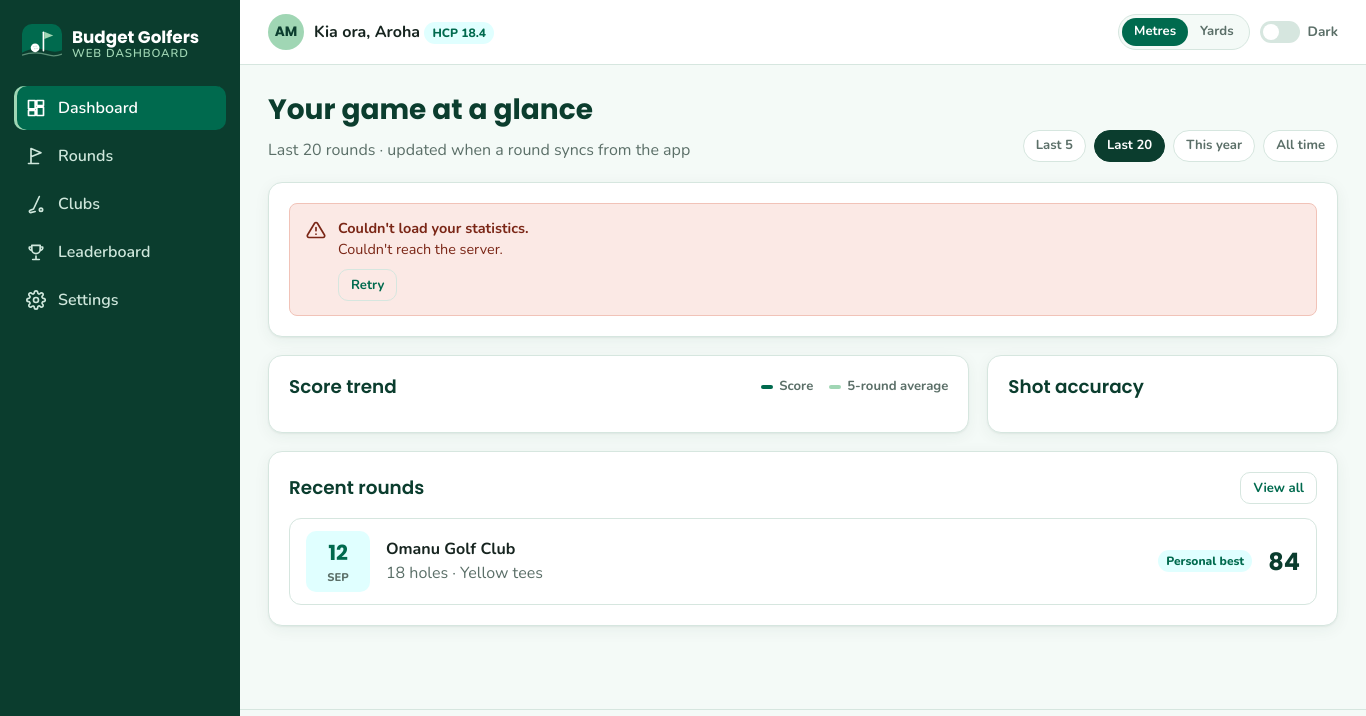
dashboard › an error shows Retry, and Retry asks again
Expected: the text "Couldn't load your statistics." is shown, [338, 218, 529, 238]
Click the button "Retry": {"x": 368, "y": 285} [338, 269, 397, 301]
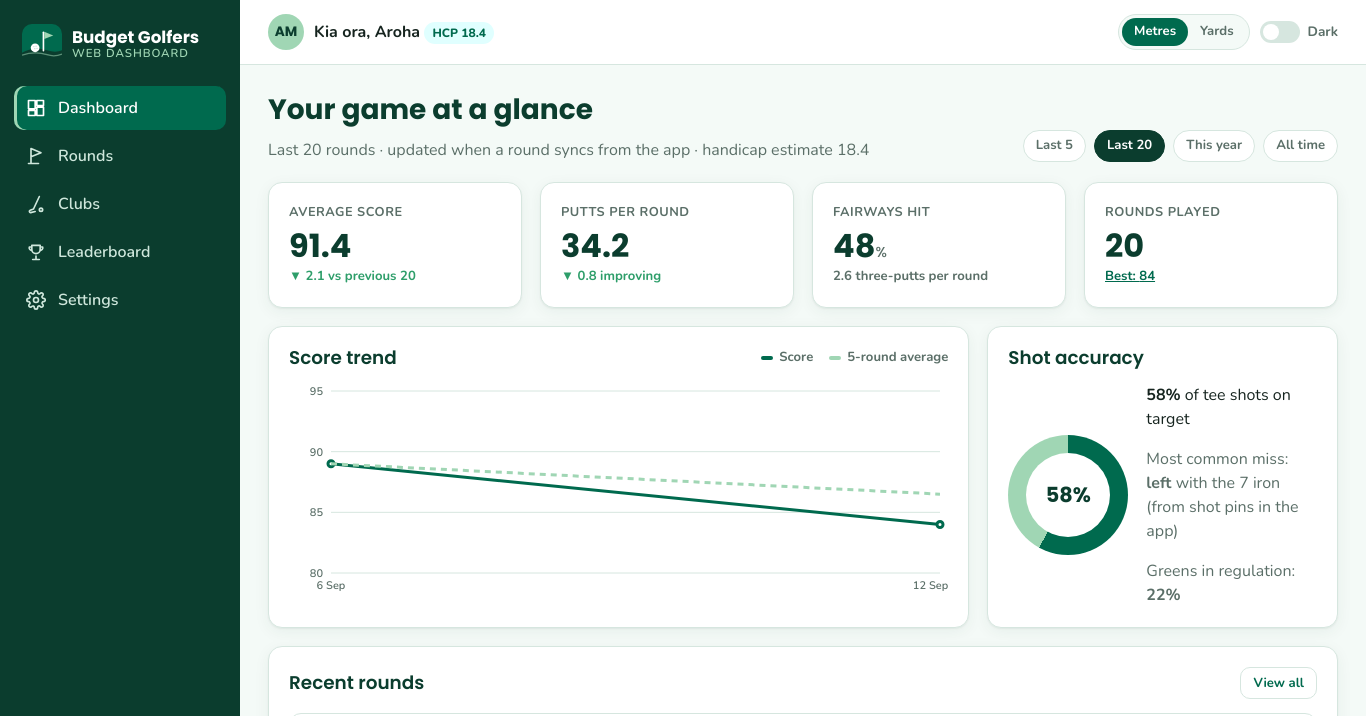
Expected: the text "91.4" is shown, [289, 223, 351, 268]
